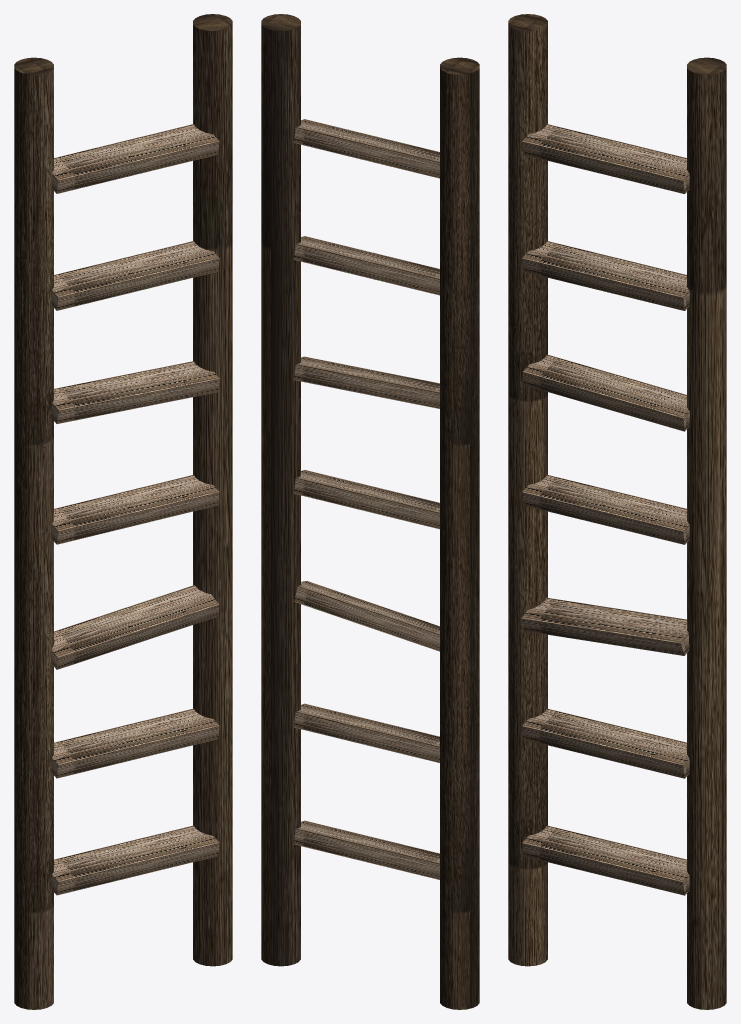
File: Leiter.FBX
The picture shows the model from 3 angles, left to right: view 1: azimuth 30°, elevation 25°; view 2: azimuth 150°, elevation 25°; view 3: azimuth 330°, elevation 25°; orthographic projection.
Visible parts, largest first — view 1: Cylinder001; view 2: Cylinder001; view 3: Cylinder001.
Boxes of the visible parts, box(x1,y1,x2,y2) form: Cylinder001: box(14, 14, 232, 1009); Cylinder001: box(261, 14, 479, 1009); Cylinder001: box(508, 14, 726, 1009).
Bounding box in the file's own units: 18.84 × 78.74 × 3.99.
3 materials, 3 textured.
